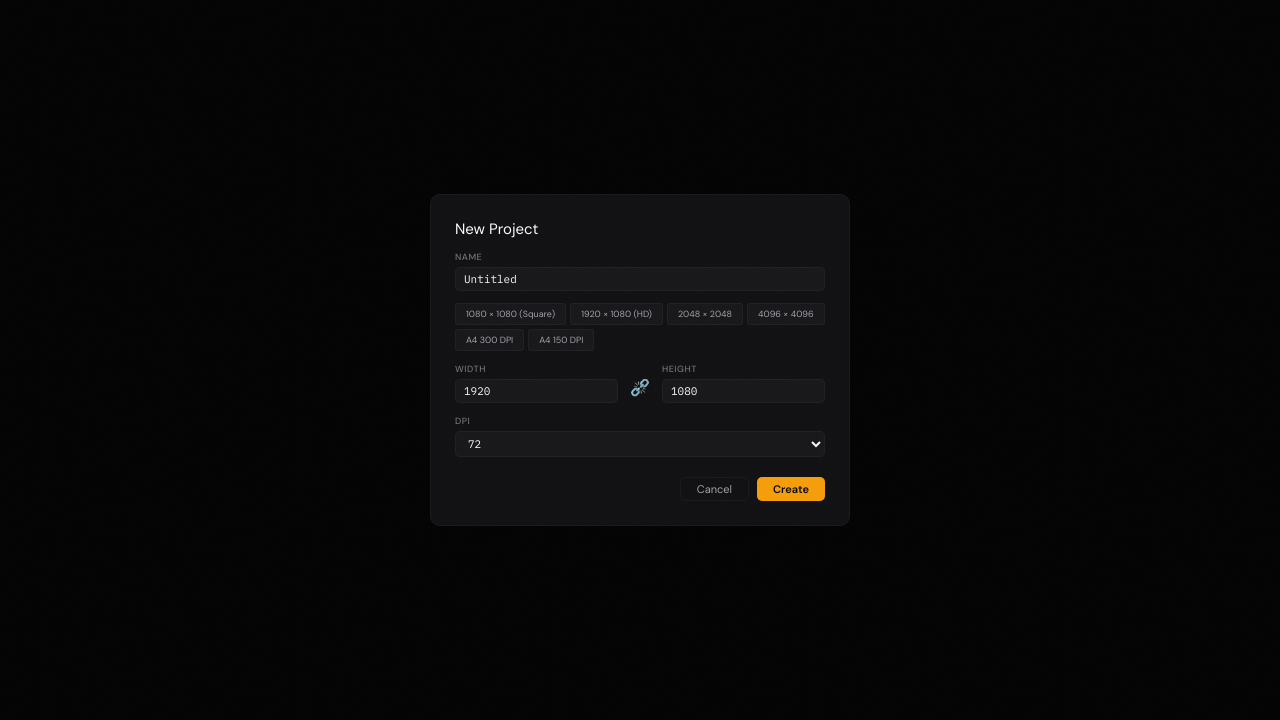
it: NewProjectDialog › applies preset dimensions on click
Step 1. Click the button "1080 × 1080 (Square)" → (511, 314), box [455,303,566,325]
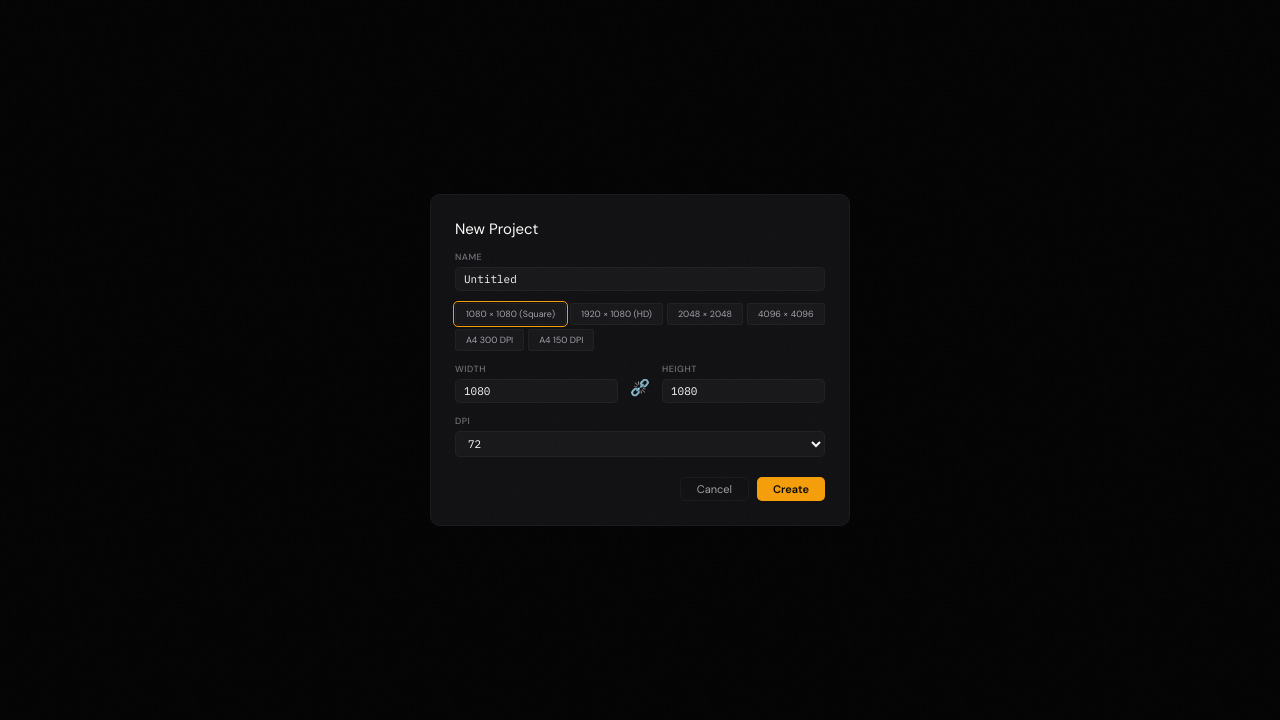
Expected: the number field named "Canvas height" holds "1080", [662,379,825,403]
Result: the number field named "Canvas width" holds "1080" at [455,379,618,403]
